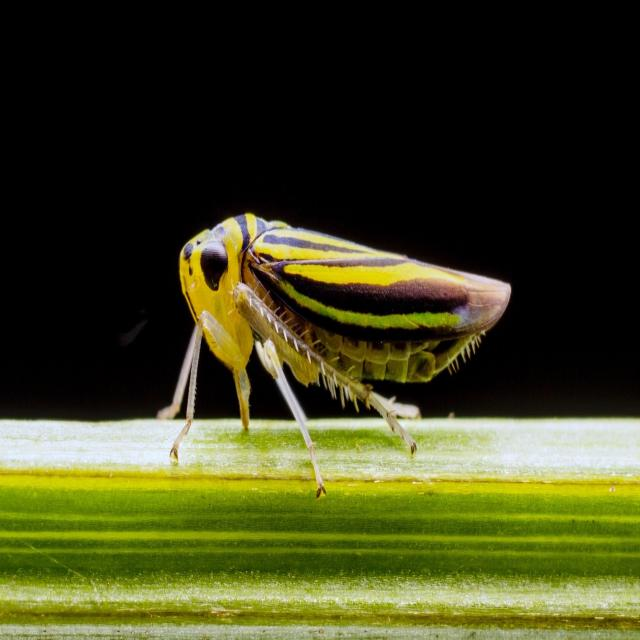Yechan: (164, 204, 516, 450)
